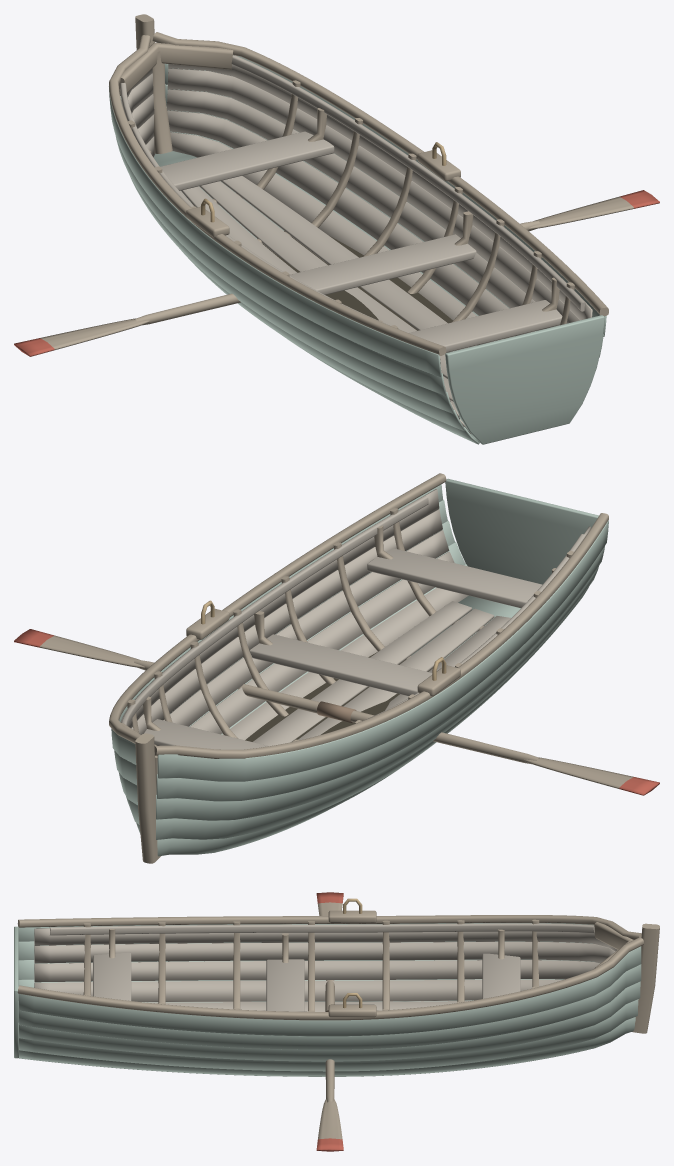
The model's file is rowboat.glb.
The picture shows the model from 3 angles, top to bottom: view 1: azimuth 30°, elevation 25°; view 2: azimuth 150°, elevation 25°; view 3: azimuth 270°, elevation 25°; orthographic projection. The views are drawn at different scales.
Visible parts, largest first — view 1: Hull, OarL, OarR; view 2: Hull, OarL, OarR; view 3: Hull, OarR, OarL.
Part boxes in pixels (x1,y1,x2,y2): Hull: [109, 14, 608, 444]; OarL: [14, 293, 240, 356]; OarR: [520, 190, 659, 231]; Hull: [109, 473, 608, 863]; OarL: [317, 701, 659, 795]; OarR: [14, 629, 353, 723]; Hull: [14, 898, 659, 1076]; OarR: [316, 1011, 343, 1151]; OarL: [316, 892, 343, 1011].
Bounding box in the file's own units: 3.8 × 0.8723 × 4.04.
